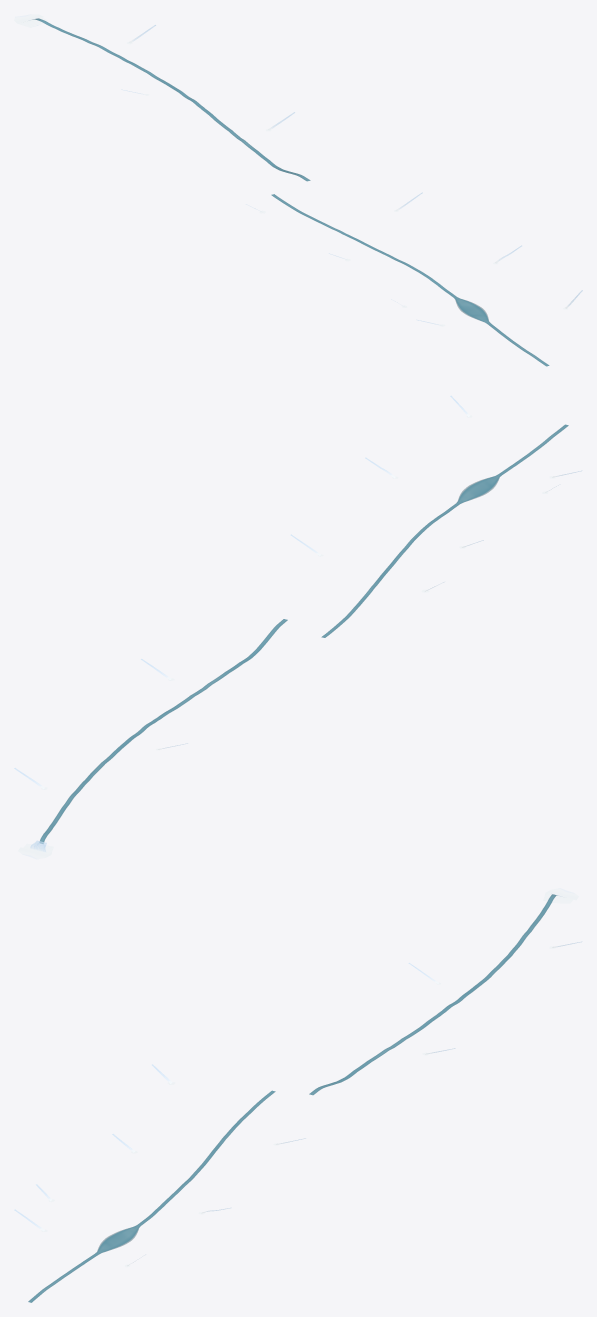
File: water-river-v3.glb
3 renders of one model, top to bottom at view 1: azimuth 30°, elevation 25°; view 2: azimuth 150°, elevation 25°; view 3: azimuth 330°, elevation 25°, orthographic. The views are drawn at different scales.
Visible parts, largest first — view 1: ValleyWater, ValleyFalls; view 2: ValleyWater, ValleyFalls; view 3: ValleyWater, ValleyFalls.
Boxes of the visible parts, x1,y1,x2,y2 form: ValleyWater: (33,18,549,366); ValleyFalls: (14,14,582,326); ValleyWater: (39,424,568,843); ValleyFalls: (14,395,582,859); ValleyWater: (28,894,557,1302); ValleyFalls: (14,888,582,1267).
Bounding box in the file's own units: 679 × 167 × 3393.
2 materials, 1 textured.
